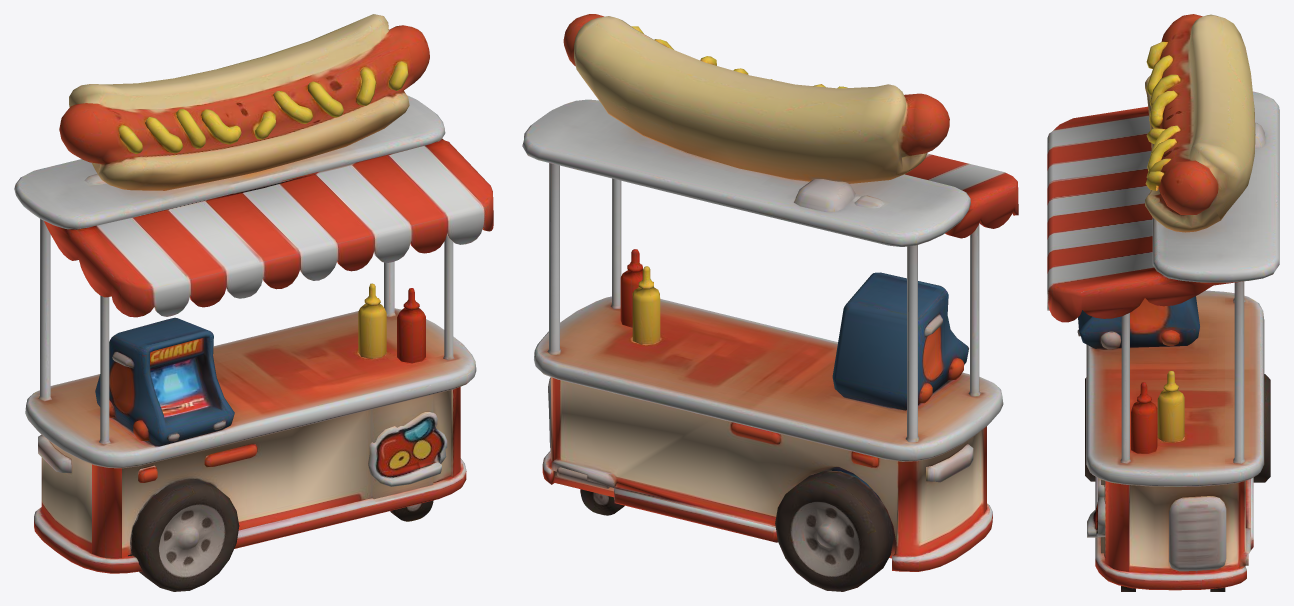
File: hot_dog_stand.glb
3 views of the same model, side by side, from view 1: azimuth 30°, elevation 25°; view 2: azimuth 150°, elevation 25°; view 3: azimuth 270°, elevation 25° (orthographic). The views are drawn at different scales.
Visible parts, largest first — view 1: hot_dog_stand; view 2: hot_dog_stand; view 3: hot_dog_stand.
Part boxes in pixels (x1,y1,x2,y2): hot_dog_stand: [14, 14, 493, 591]; hot_dog_stand: [522, 14, 1018, 591]; hot_dog_stand: [1047, 14, 1279, 591].
Bounding box in the file's own units: 0.896 × 0.9995 × 0.4712.
1 material, 1 textured.
